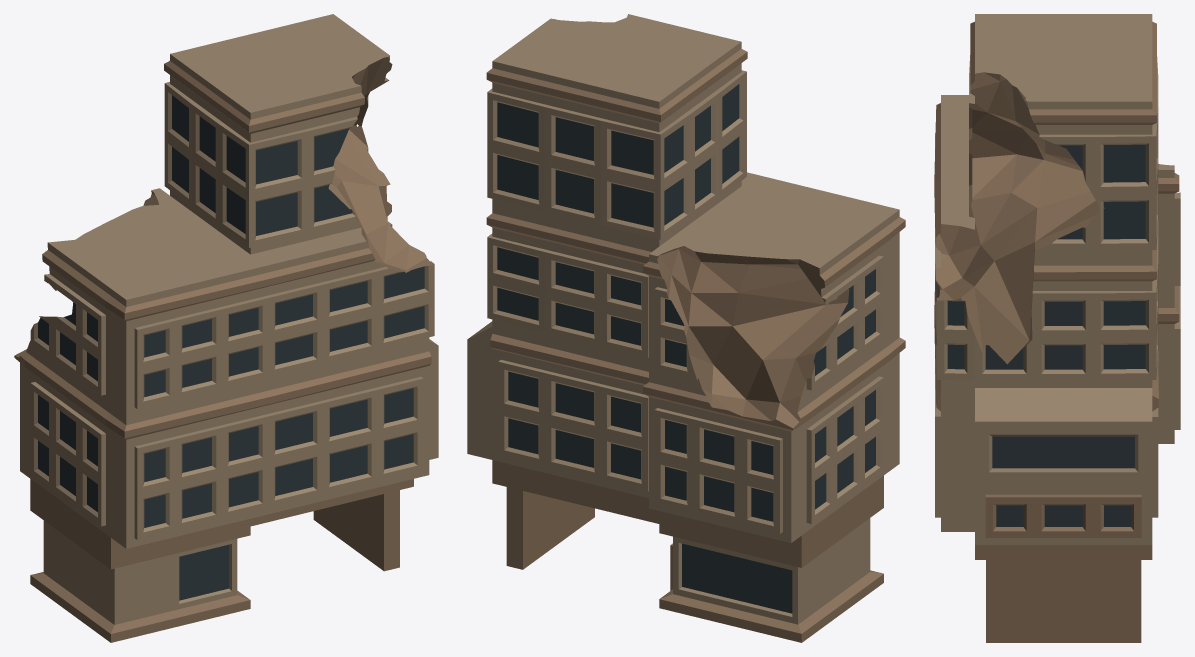
Rendered from LP_PostApoc_BuildingPreset7.fbx.
3 renders of one model, left to right at view 1: azimuth 30°, elevation 25°; view 2: azimuth 150°, elevation 25°; view 3: azimuth 270°, elevation 25°, orthographic. The views are drawn at different scales.
Visible parts, largest first — view 1: BuildingPreset7; view 2: BuildingPreset7; view 3: BuildingPreset7.
Boxes of the visible parts, x1=… form: BuildingPreset7: x1=14, y1=14, x2=438, y2=642; BuildingPreset7: x1=467, y1=14, x2=905, y2=642; BuildingPreset7: x1=934, y1=14, x2=1180, y2=642.
Bounding box in the file's own units: 1640 × 2302 × 942.
